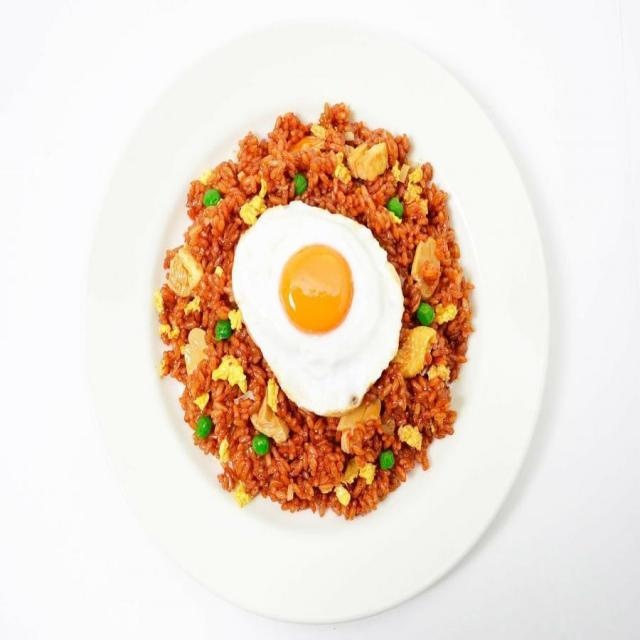Nasi Goreng: (154, 100, 475, 520)
